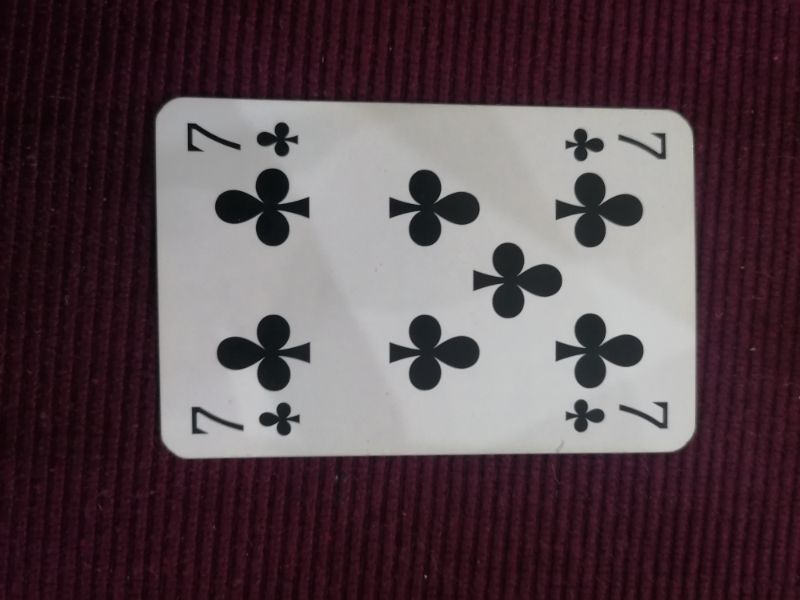7c: (180, 112, 306, 161), (187, 397, 307, 443), (558, 393, 677, 439), (555, 124, 675, 168)
